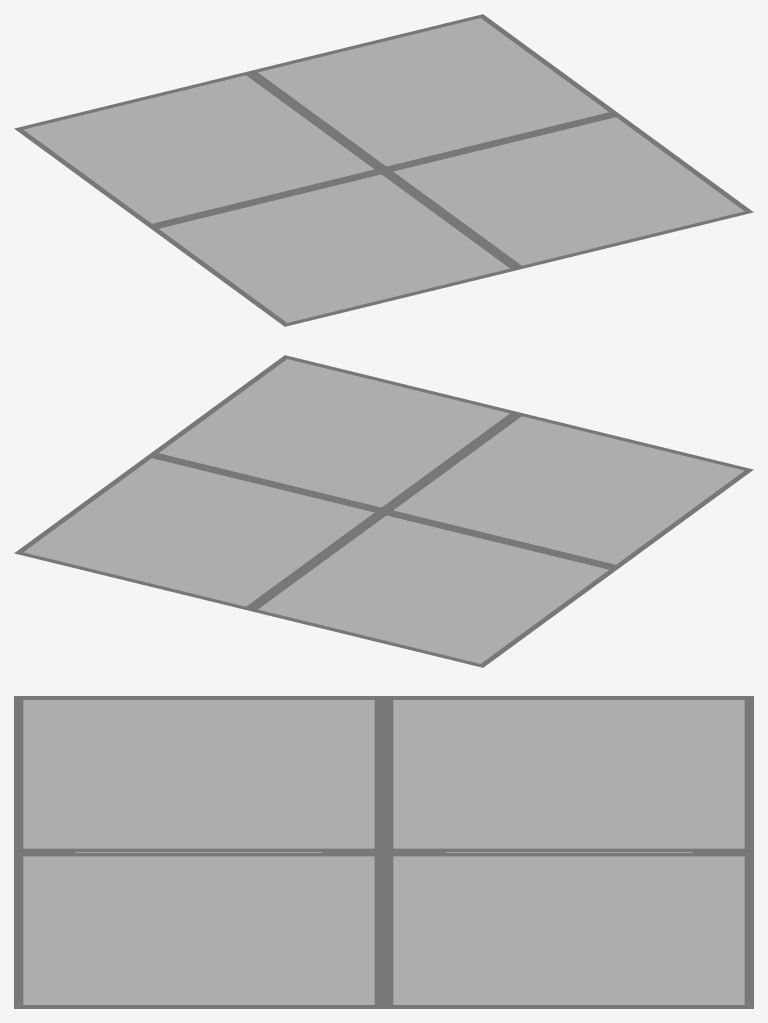
File: Ceiling_2x2.fbx
3 renders of one model, top to bottom at view 1: azimuth 30°, elevation 25°; view 2: azimuth 150°, elevation 25°; view 3: azimuth 270°, elevation 25°, orthographic. The views are drawn at different scales.
Visible parts, largest first — view 1: CeilingTiles.002; view 2: CeilingTiles.002; view 3: CeilingTiles.002.
Part boxes in pixels (x1=…): CeilingTiles.002: x1=14, y1=14, x2=753, y2=326; CeilingTiles.002: x1=14, y1=355, x2=753, y2=667; CeilingTiles.002: x1=14, y1=696, x2=753, y2=1008.
Bounding box in the file's own units: 200 × 4.2e-05 × 200.
